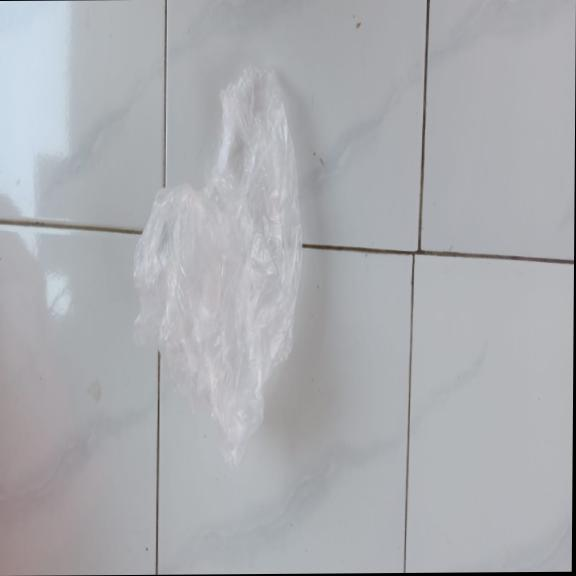Plastik: (131, 61, 306, 470)
